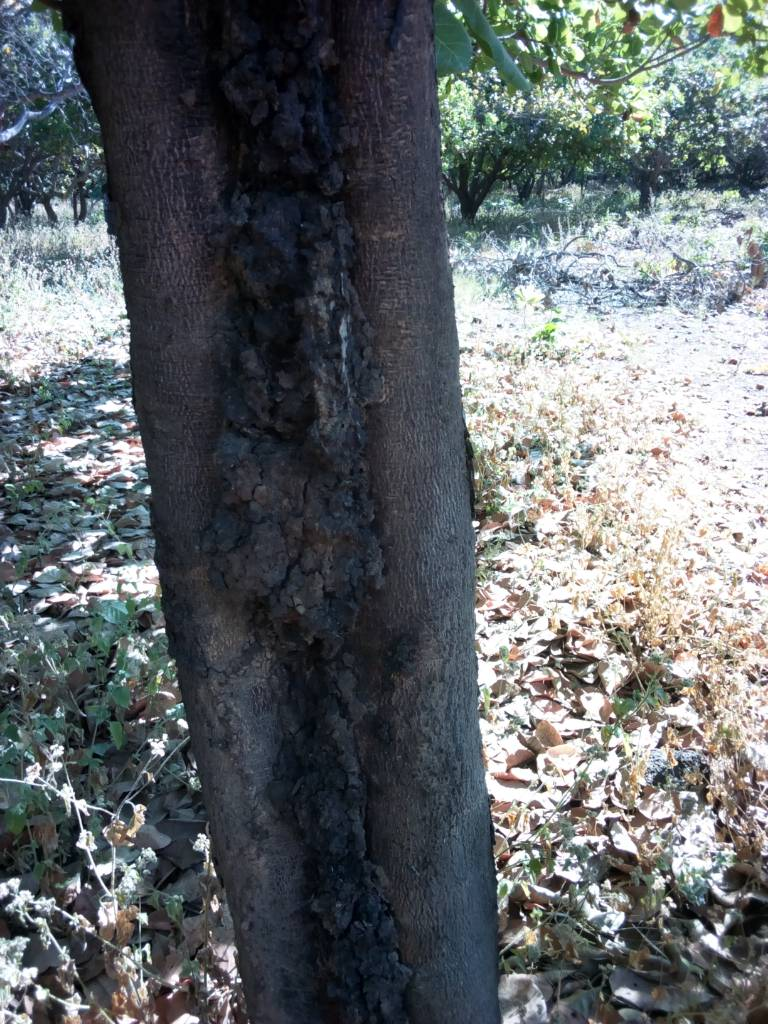Termites: (227, 69, 458, 1007)
